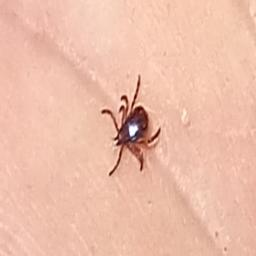Rhipicephalus sanguineus: (100, 74, 162, 177)
